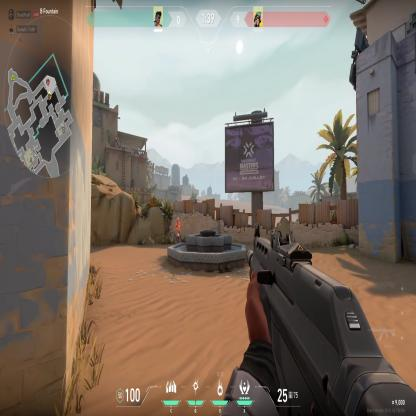enemy: (174, 216, 181, 243)
